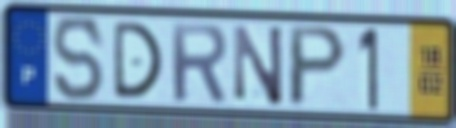1: (357, 25, 380, 112)
D: (111, 19, 166, 102)
N: (231, 22, 286, 109)
P: (285, 24, 350, 110)
R: (167, 19, 230, 104)
S: (51, 13, 107, 104)
